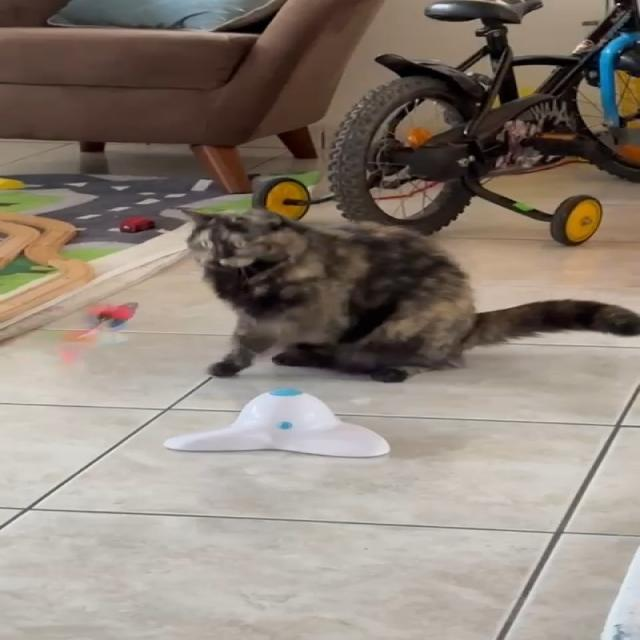authorized: (177, 206, 639, 383)
